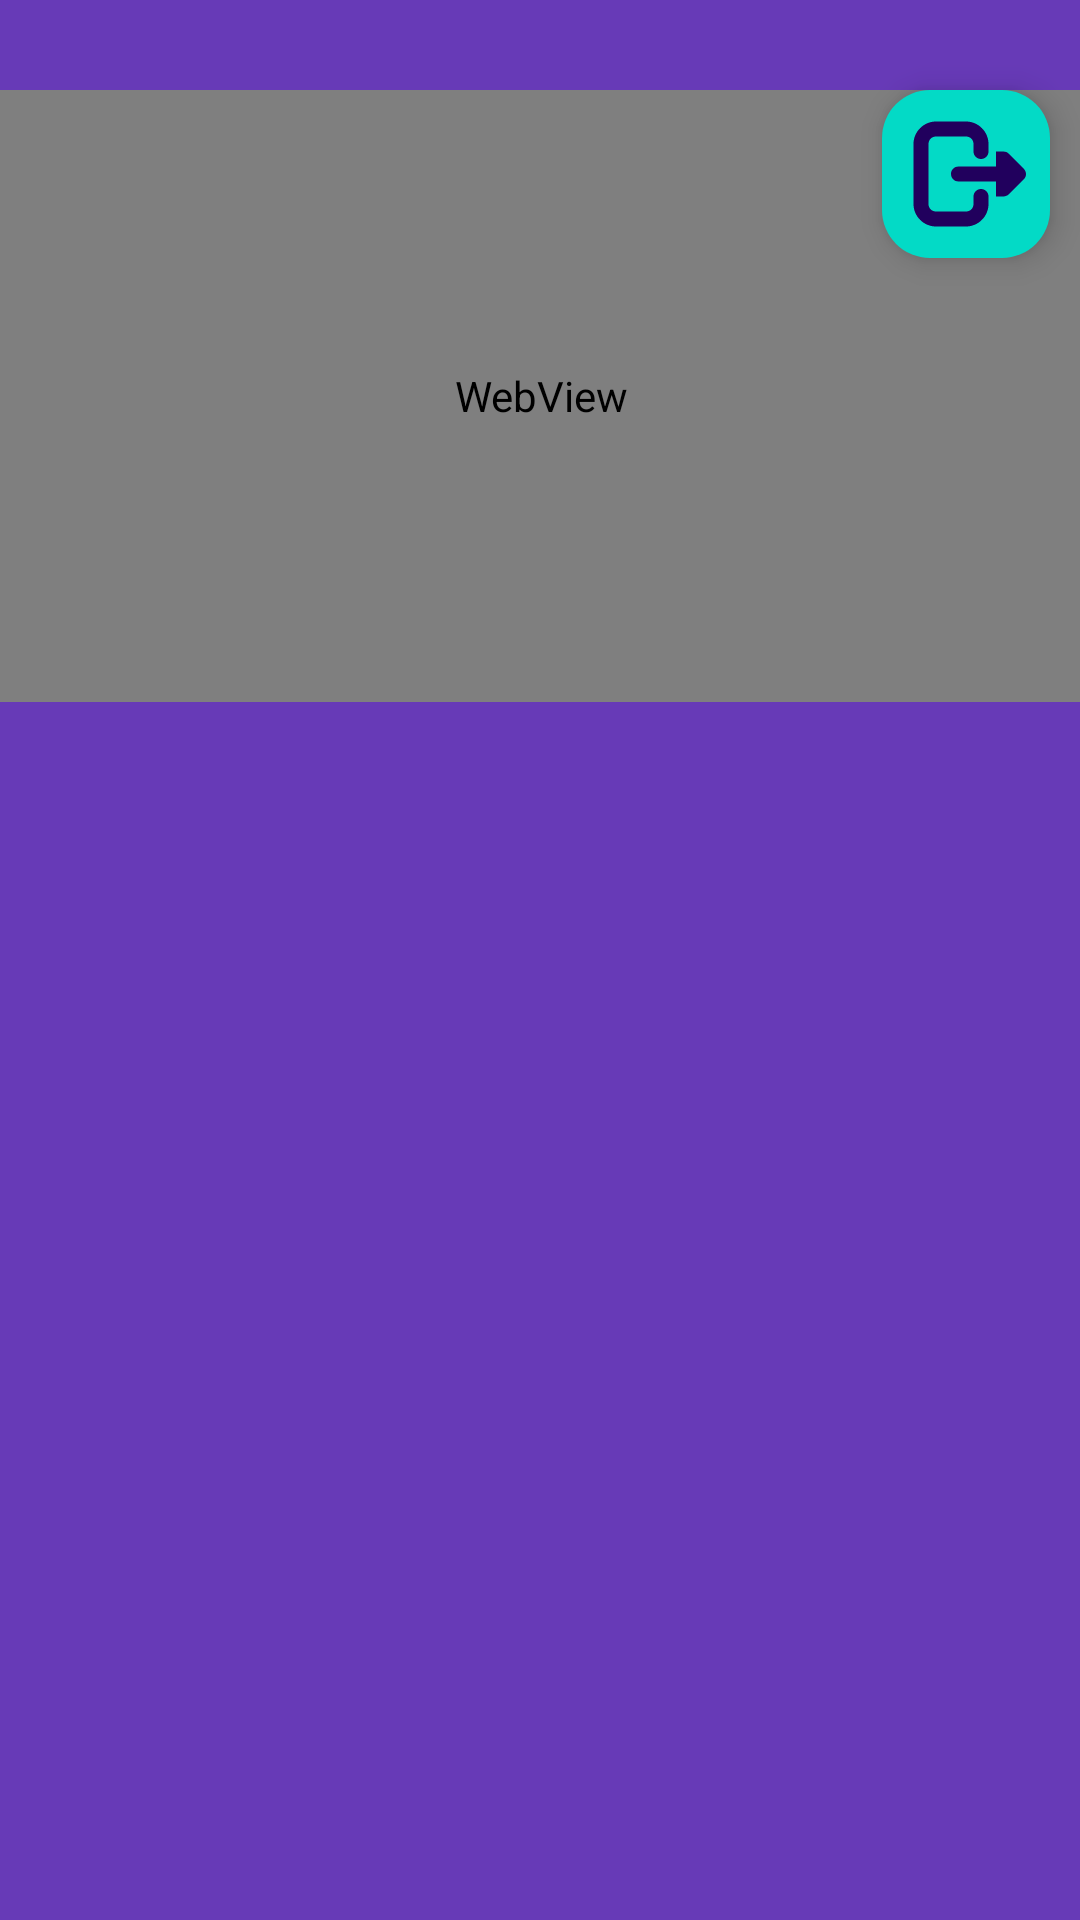

Screen size 1080 x 1920. Icon name, then its box in pixels as [x1=x1, y1=y1, x2=x2, y2=y2]:
exit: [x1=882, y1=90, x2=1050, y2=258]
